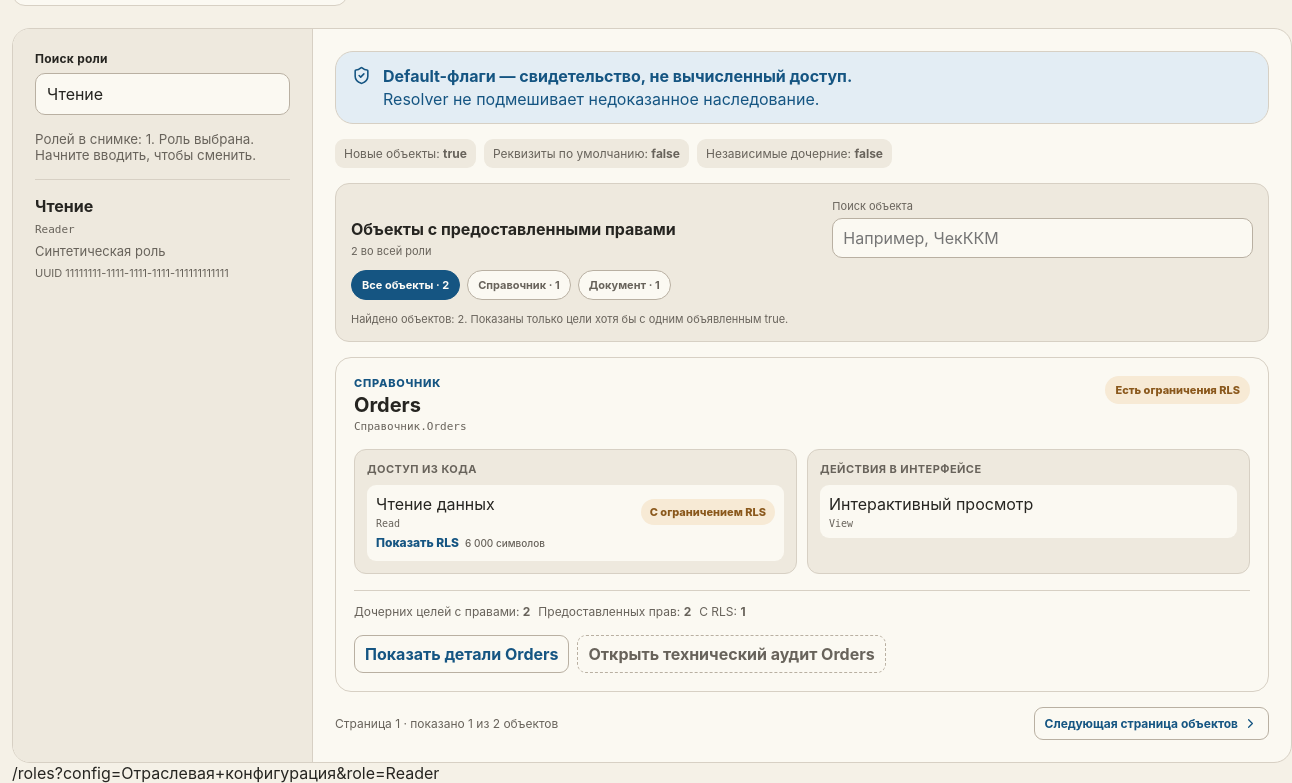
заменяет страницу объектов большой роли и не показывает false
(page scrolled)
Expected: the heading "Orders" is shown, [354,393,421,417]
Expected: the text "Страница 1 · показано 1 из 2 объектов" is shown, [335,716,558,731]
Click the button "Следующая страница объектов".
click(1151, 724)  # box [1034,707,1269,740]
(page scrolled)
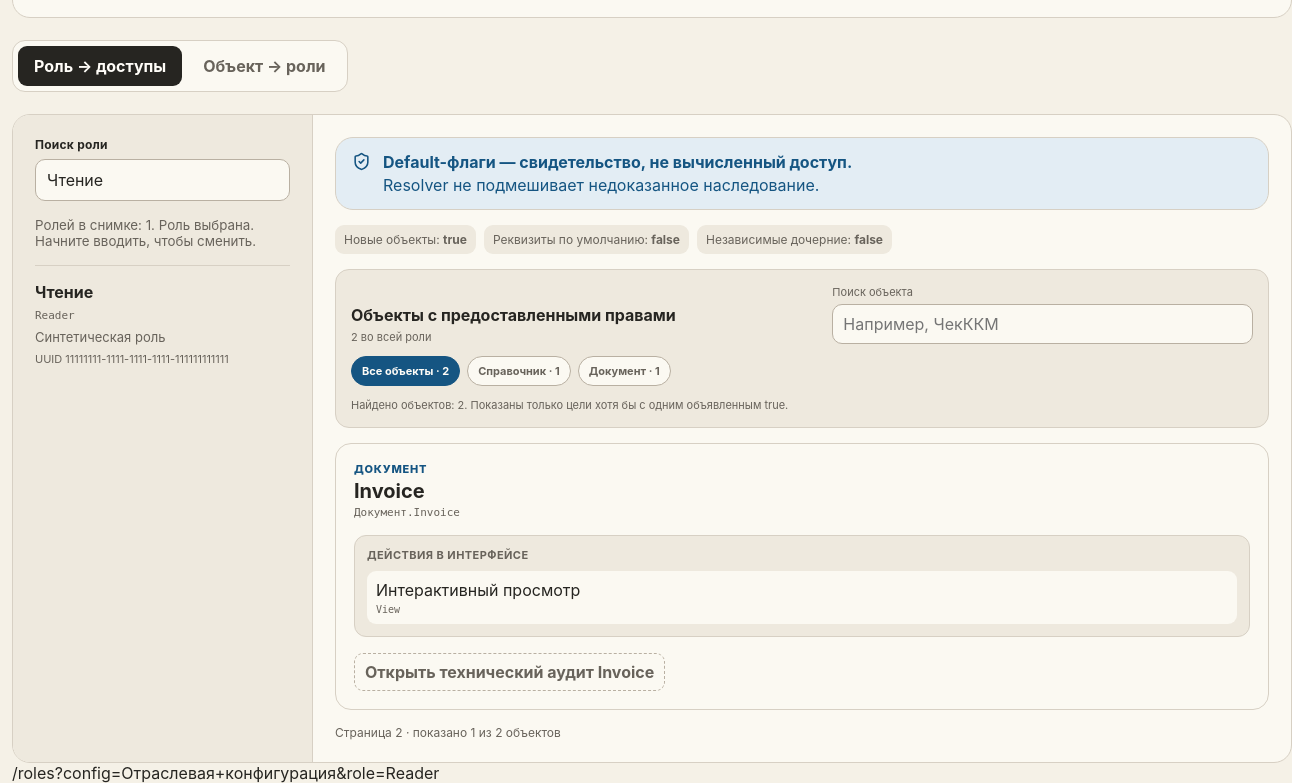
Now the heading "Invoice" is shown, box [354,479,425,503]
Now the text "Страница 2 · показано 1 из 2 объектов" is shown, box [335,725,561,740]
